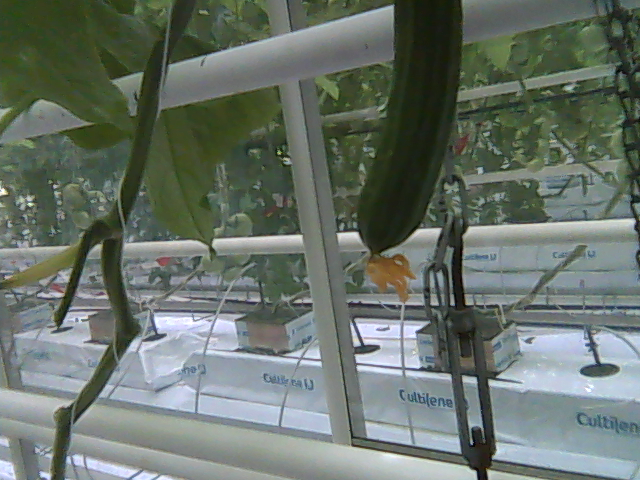concombre: (353, 1, 468, 303)
